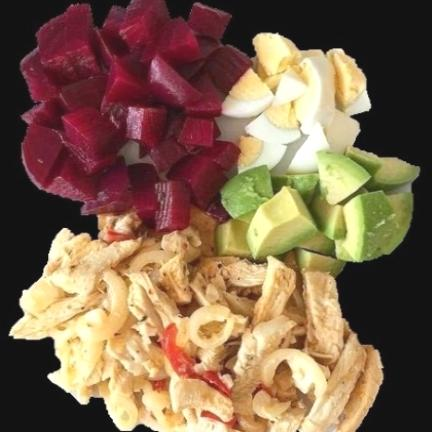beet: (20, 0, 251, 230)
chicken: (10, 229, 381, 431)
egg: (222, 33, 369, 174)
green_vegetables: (214, 148, 418, 277)
